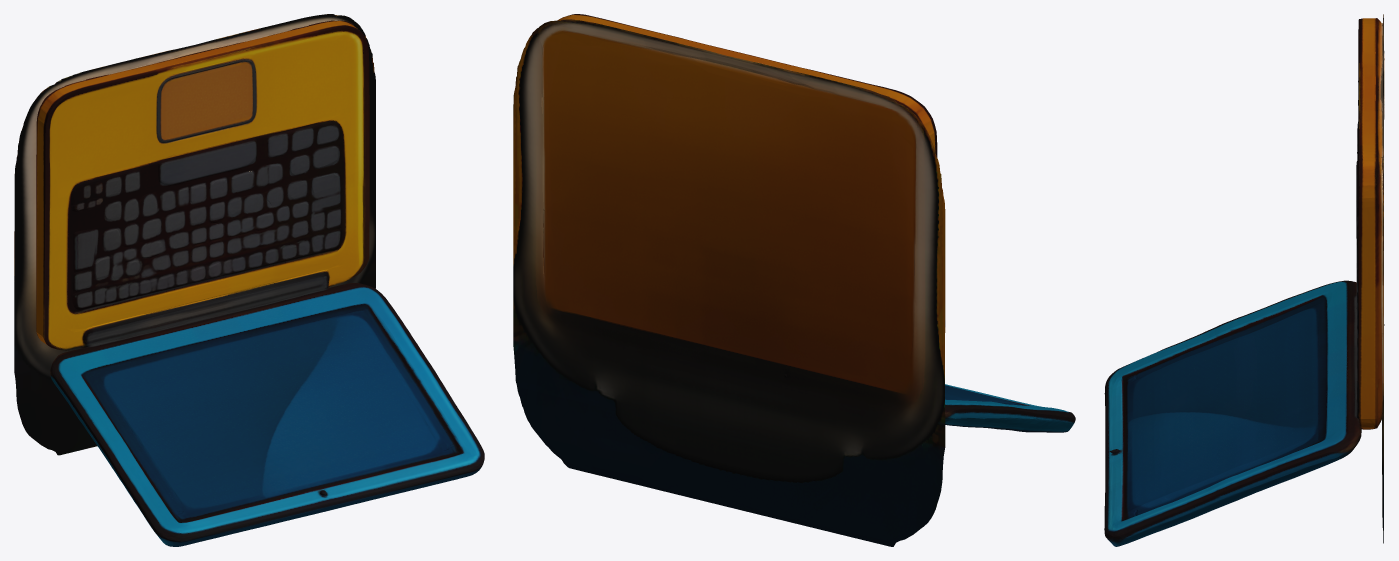
Rendered from paladio.fbx.
The picture shows the model from 3 angles, left to right: view 1: azimuth 30°, elevation 25°; view 2: azimuth 150°, elevation 25°; view 3: azimuth 270°, elevation 25°; orthographic projection. The views are drawn at different scales.
Parts seen in each view (by area): view 1: geometry_0.001; view 2: geometry_0.001; view 3: geometry_0.001.
Part boxes in pixels (x1,y1,x2,y2): geometry_0.001: (14,14,484,546); geometry_0.001: (513,14,1075,546); geometry_0.001: (1104,14,1384,546).
Bounding box in the file's own units: 0.3552 × 0.355 × 0.2285.
1 material, 1 textured.
